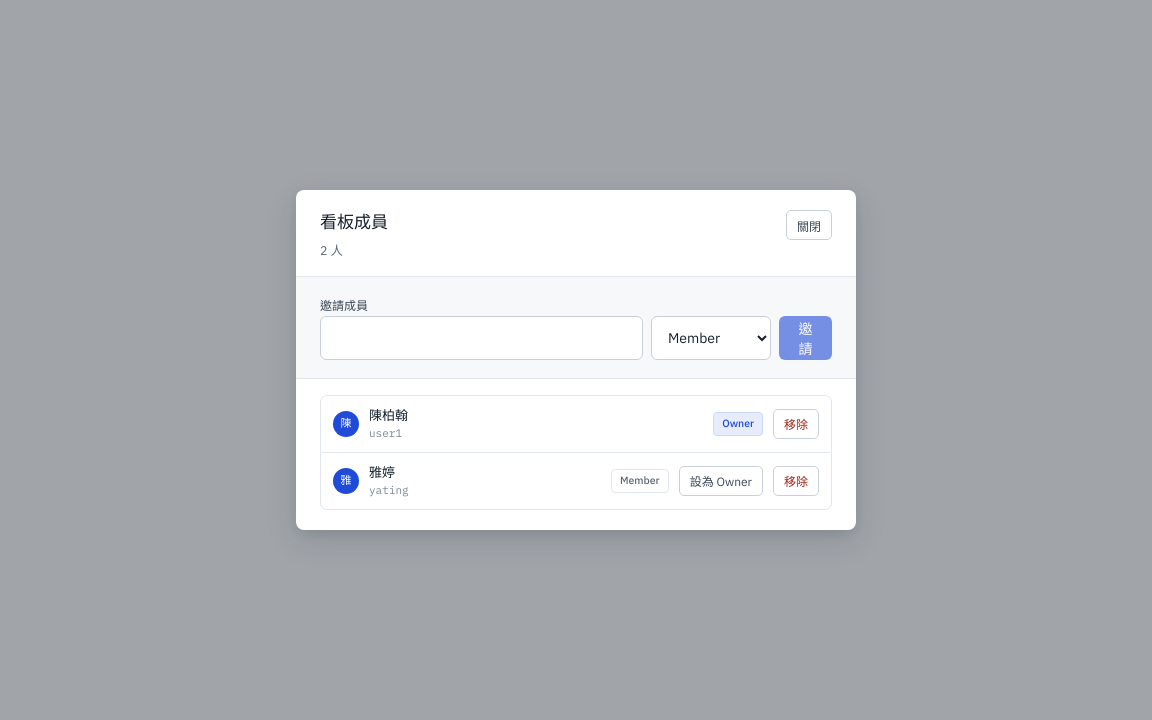
Test: s-member-management › 移除非唯一 Owner 或 Member 後，先顯示確認，確認後該成員才自清單移除
Expected: the text "雅婷" is shown, x1=369 y1=464 x2=395 y2=481
Click the button "移除" in the row of "Member" at point(796, 481), box x1=773 y1=466 x2=819 y2=496
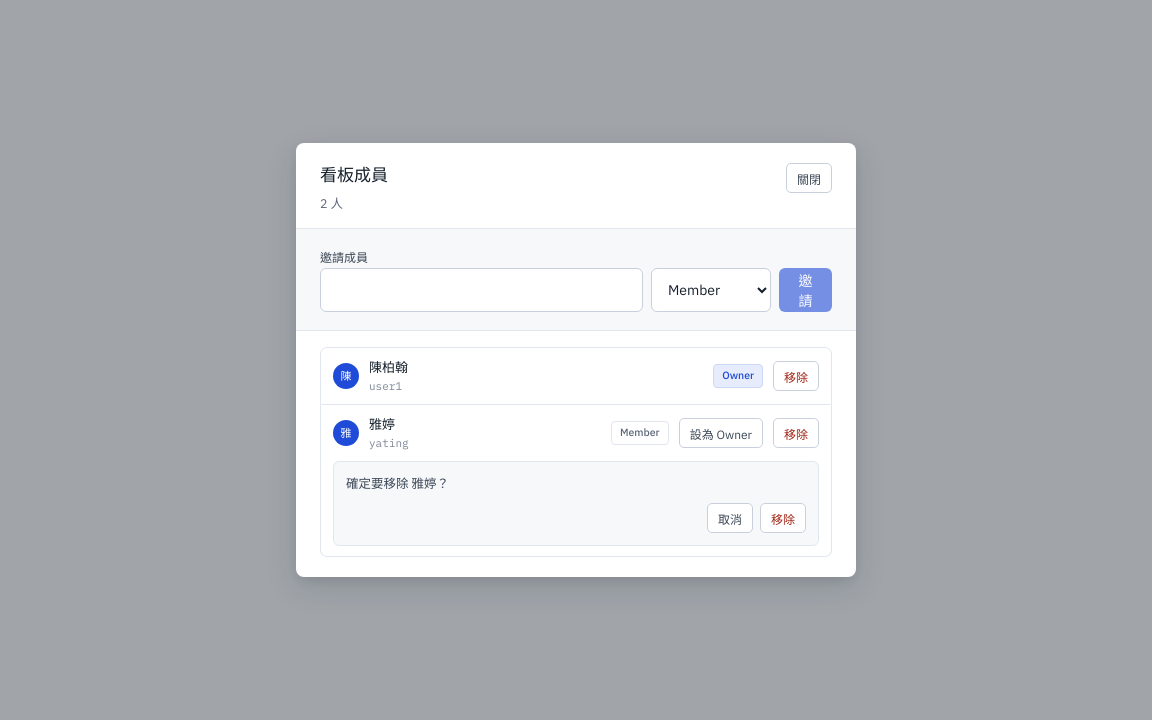
Expected: the text "雅婷" is shown, x1=369 y1=416 x2=395 y2=433
Expected: the text "確定要移除 雅婷？" is shown, x1=346 y1=475 x2=449 y2=491
Click the 3rd button "移除" at point(783, 518), box x1=760 y1=503 x2=806 y2=533
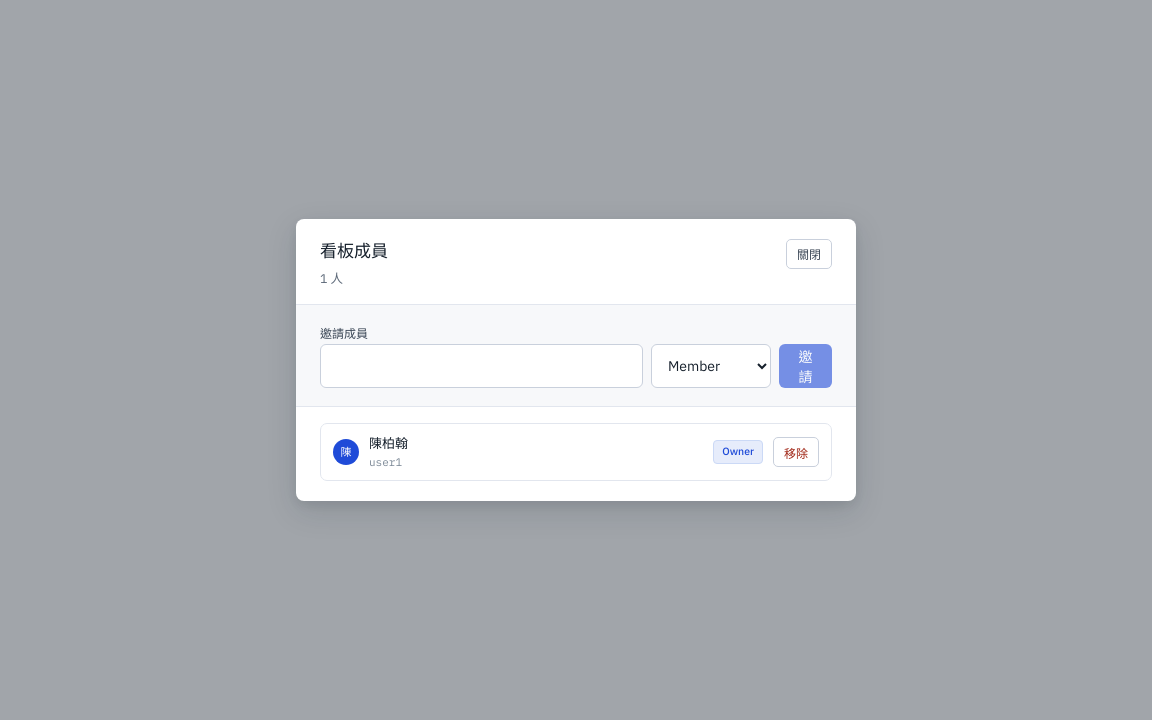
Expected: the text "雅婷" is gone
